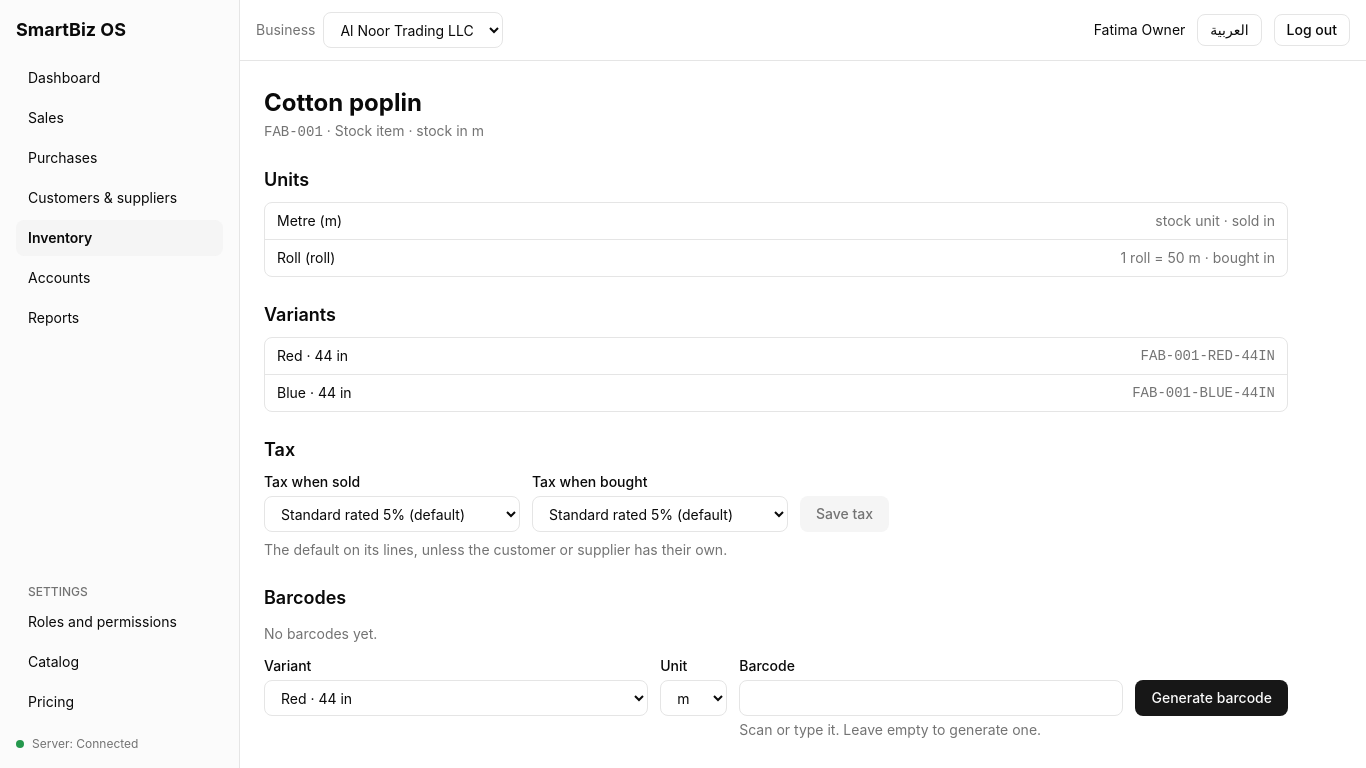
Test: Catalog screens › shows a product's units and variants, and generates a barcode for the roll
Expected: the text "1 roll = 50 m · bought in" is shown, x1=1120 y1=248 x2=1275 y2=268
Expected: the text "FAB-001-RED-44IN" is shown, x1=1141 y1=346 x2=1275 y2=366
The page has several unit pickers (barcodes, list price, price check): use the barcodes one.
Select "roll" in the dropdown labelled "Unit" at (694, 698), box x1=660 y1=680 x2=727 y2=716
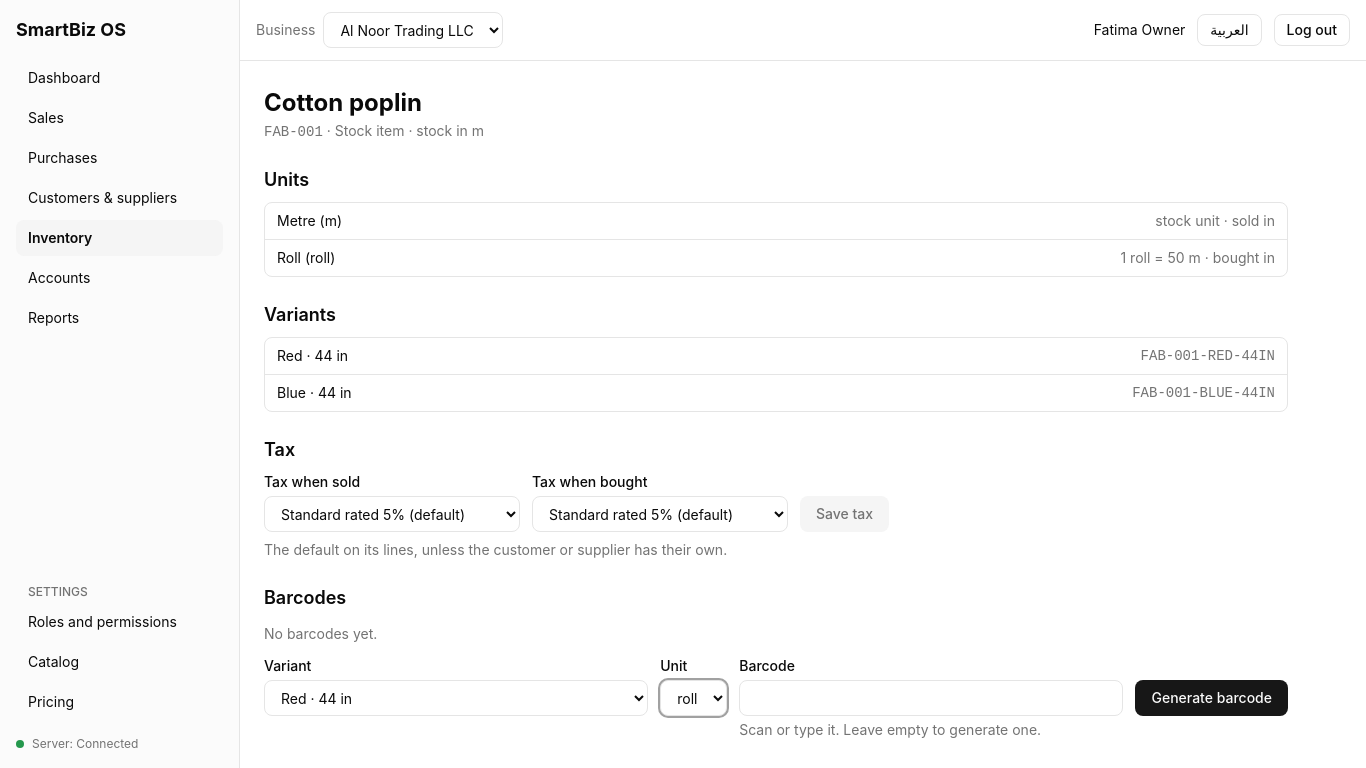
Click the button "Generate barcode" at (1212, 698), box x1=1136 y1=680 x2=1288 y2=716
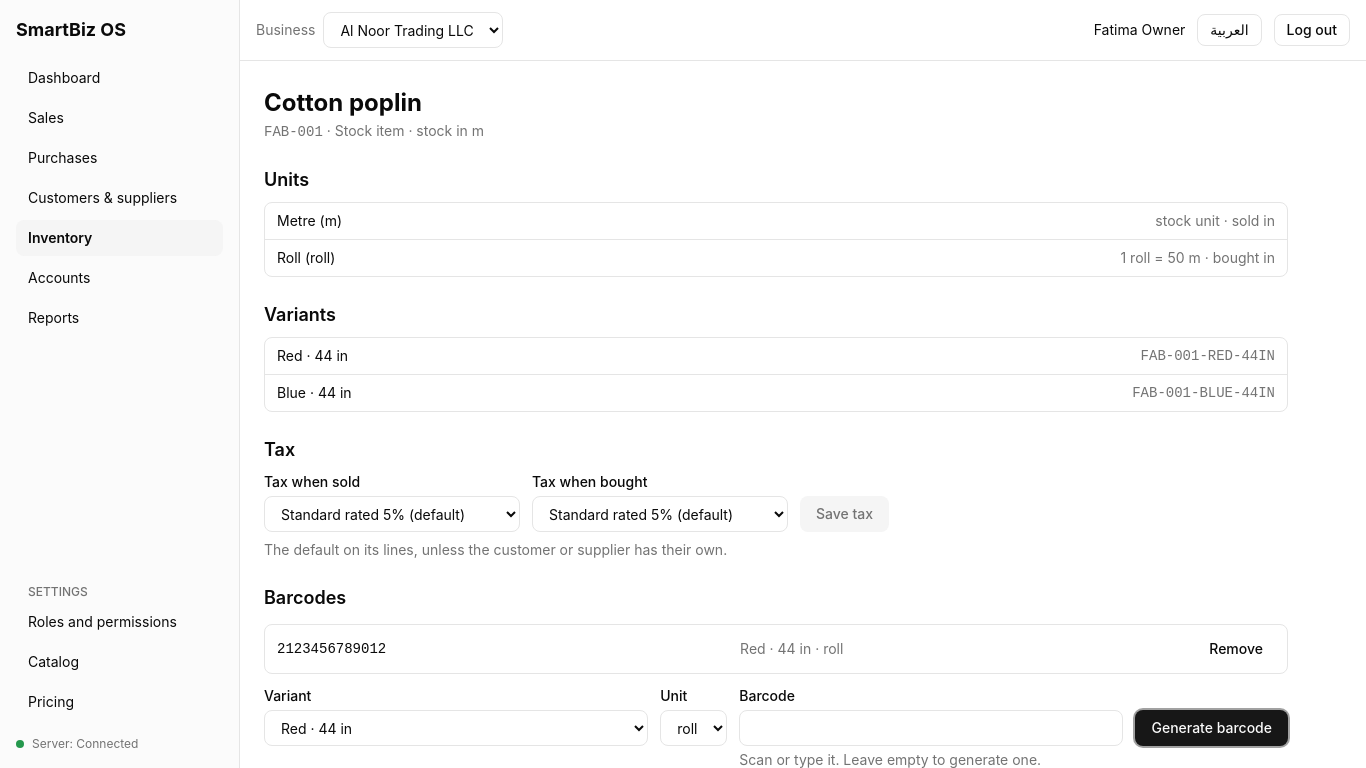
Result: the text "2123456789012" is shown at x1=277 y1=639 x2=386 y2=659
